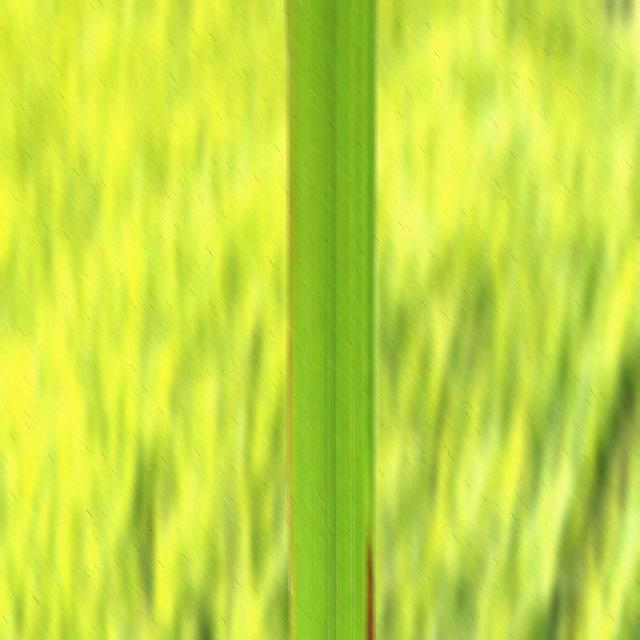NBS: (365, 536, 374, 640)
